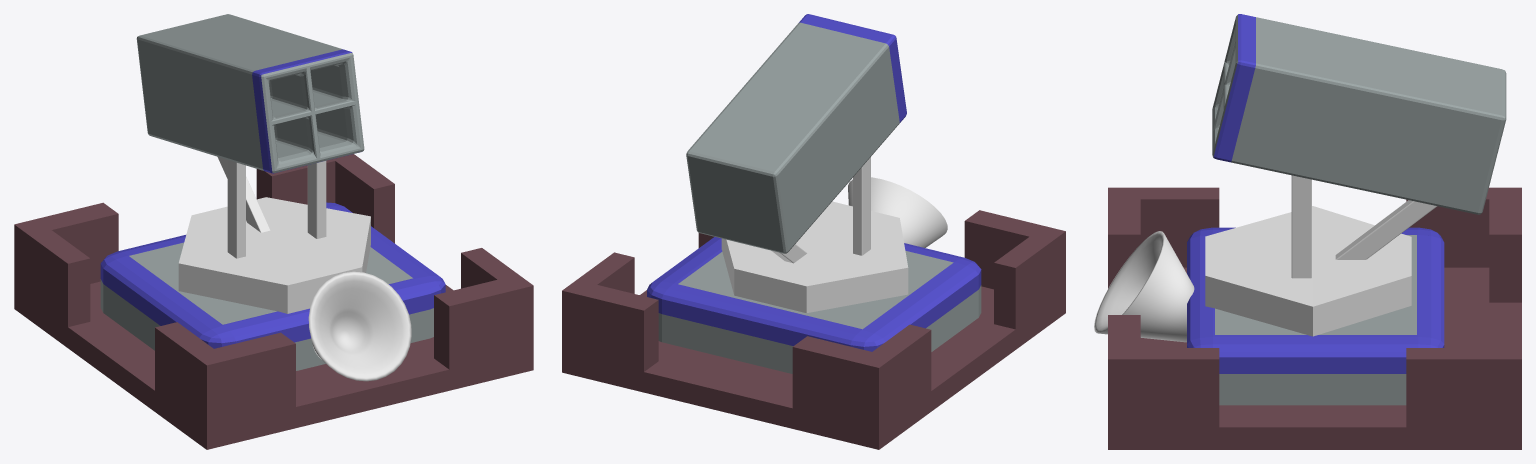
Rendered from ByteSweeperFINAL.fbx.
The picture shows the model from 3 angles, left to right: view 1: azimuth 30°, elevation 25°; view 2: azimuth 150°, elevation 25°; view 3: azimuth 270°, elevation 25°; orthographic projection. The views are drawn at different scales.
Parts seen in each view (by area): view 1: Platform, Cube.002, Stage, Cube, Cone, Cube.001, Cube.003, Cube.004; view 2: Platform, Cube.002, Stage, Cube, Cone, Cube.001; view 3: Platform, Cube.002, Stage, Cube, Cone, Cube.004, Cube.003.
Boxes of the visible parts, box(x1,y1,x2,y2) form: Platform: box(14, 154, 533, 449); Cube.002: box(136, 14, 364, 173); Stage: box(100, 202, 445, 370); Cube: box(178, 197, 370, 313); Cone: box(308, 271, 411, 381); Cube.001: box(227, 160, 245, 258); Cube.003: box(307, 161, 326, 238); Cube.004: box(217, 156, 270, 232); Platform: box(562, 210, 1065, 449); Cube.002: box(686, 14, 906, 253); Stage: box(647, 237, 981, 373); Cube: box(721, 201, 908, 313); Cone: box(848, 177, 947, 247); Cube.001: box(853, 157, 870, 255); Platform: box(1108, 187, 1521, 449); Cube.002: box(1212, 14, 1506, 214); Stage: box(1187, 227, 1444, 405); Cube: box(1205, 206, 1411, 336); Cone: box(1094, 231, 1194, 342); Cube.004: box(1335, 200, 1437, 259); Cube.003: box(1291, 175, 1311, 278).
Size of the model in its own units: 89.59 by 79.35 by 94.52.
